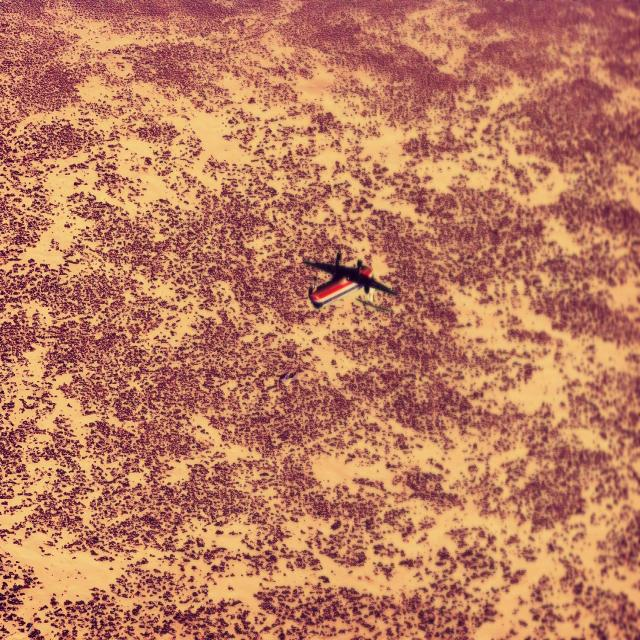airplane: (303, 250, 397, 312)
